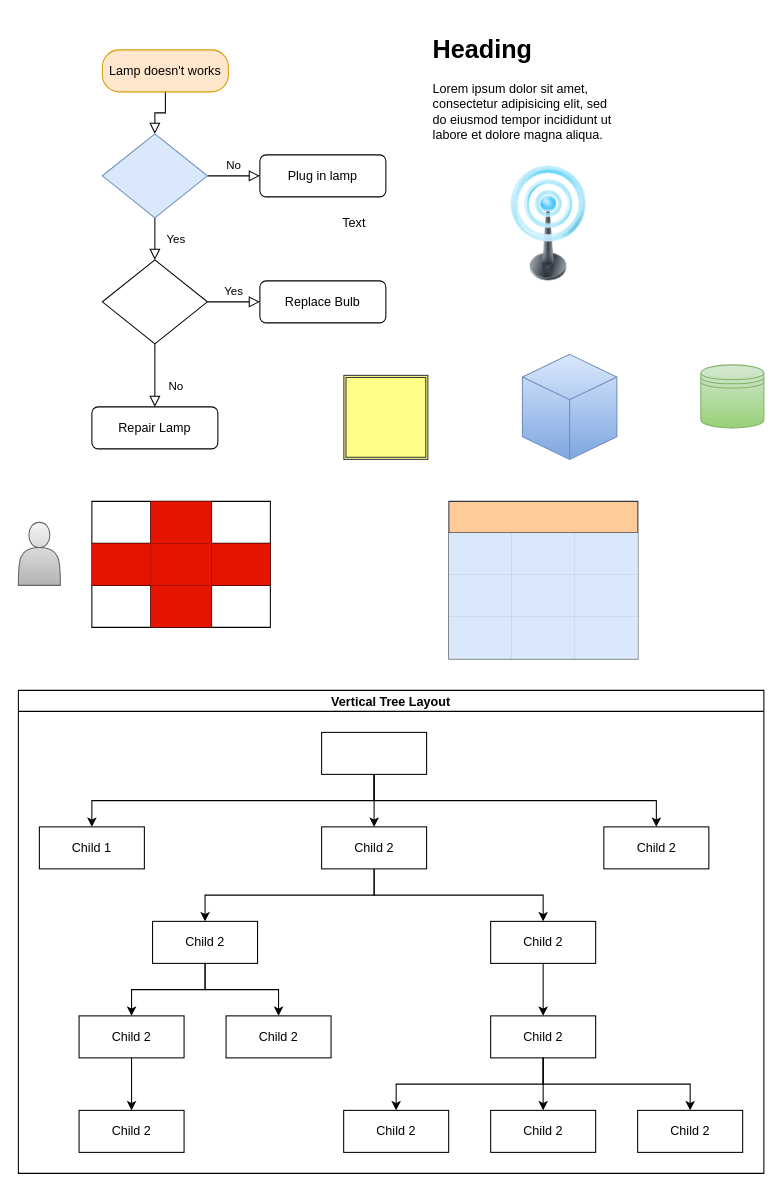
Image size: 782x1192. Some labels were removed from this diagram. Each missing label, with the centre of its shape:
"Bulb burned out?" belongs at (x=154, y=301).
"Lamp plugged in?" belongs at (x=154, y=175).
"Root" belongs at (x=374, y=752).
"Table" belongs at (x=543, y=579).
